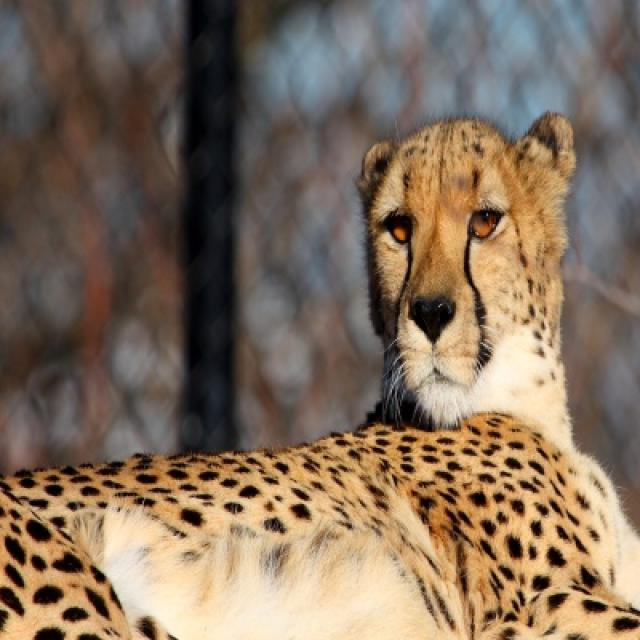Cheetah: (0, 112, 638, 638)
